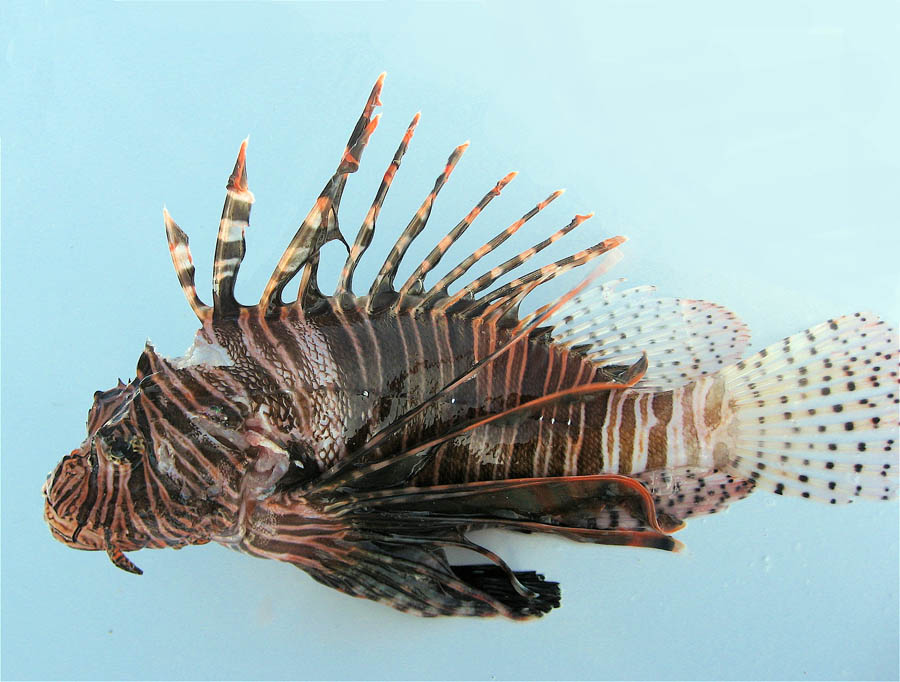Pterois_volitans: (14, 89, 895, 648)
